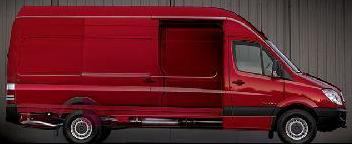headlight: (320, 84, 345, 112)
side_glass: (229, 35, 297, 87)
